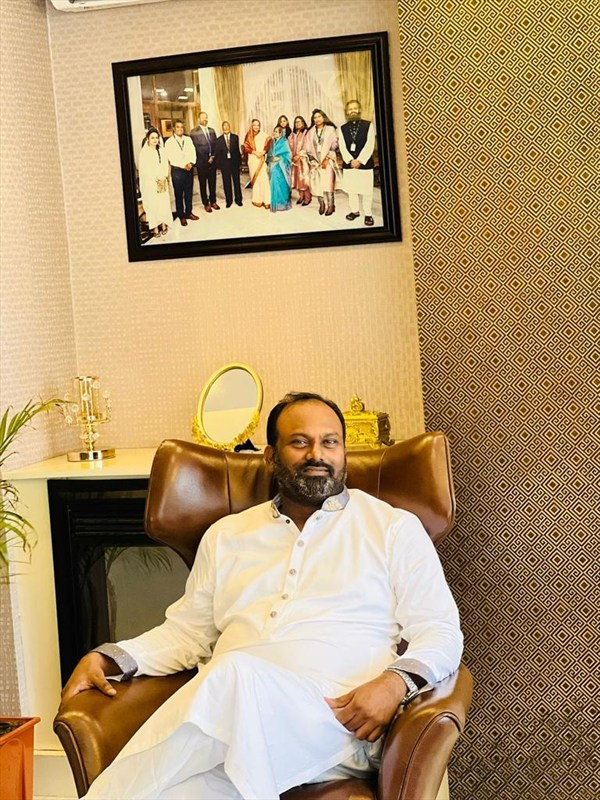Soto Ayam: (54, 25, 445, 741)
